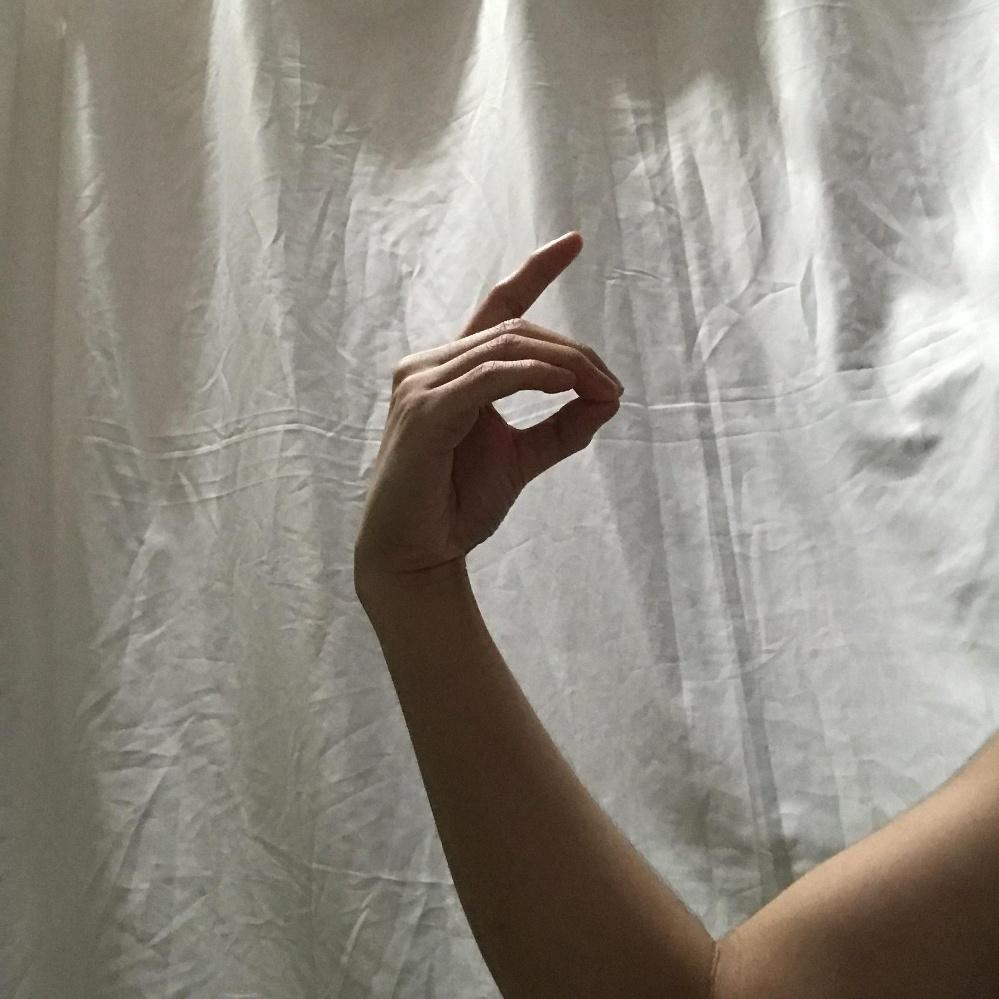d: (359, 228, 624, 551)
